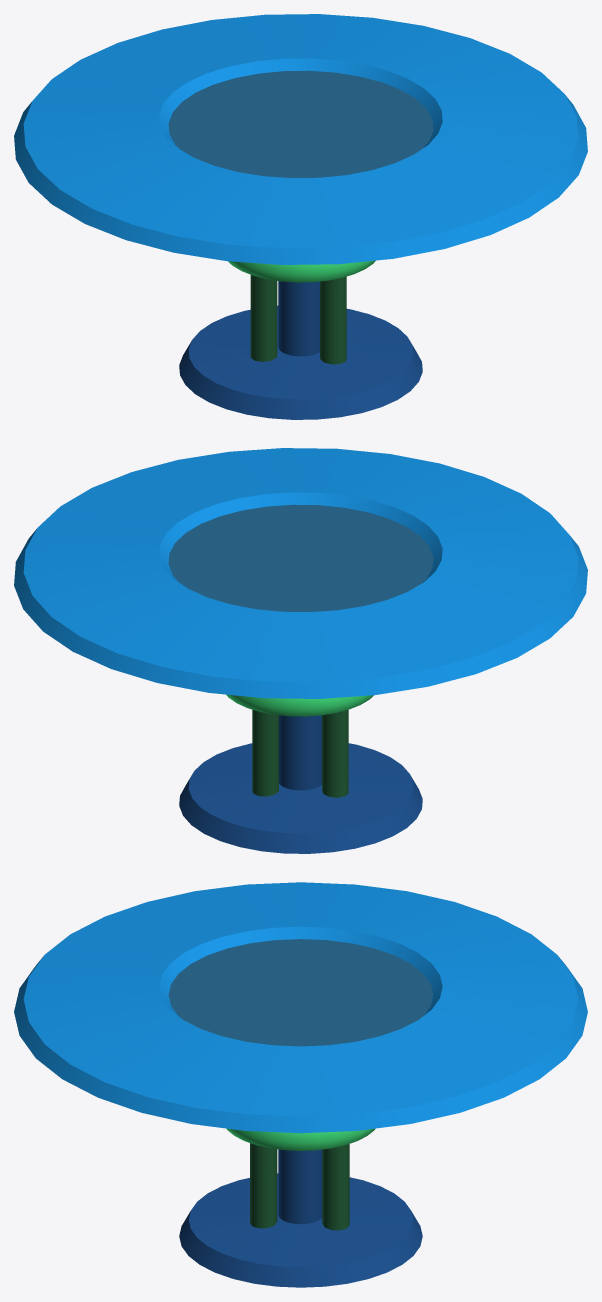
Rendered from TableAndChair.fbx.
3 views of the same model, one above another, from view 1: azimuth 30°, elevation 25°; view 2: azimuth 150°, elevation 25°; view 3: azimuth 270°, elevation 25° (orthographic).
Parts seen in each view (by area): view 1: Table, Chair; view 2: Table, Chair; view 3: Table, Chair.
Part boxes in pixels (bbox=[...]): Table: bbox=[14, 14, 587, 419]; Chair: bbox=[228, 260, 375, 364]; Table: bbox=[14, 448, 587, 853]; Chair: bbox=[226, 694, 373, 797]; Table: bbox=[14, 882, 587, 1287]; Chair: bbox=[226, 1128, 375, 1230].
Bounding box in the file's own units: 200 × 95.98 × 200.
